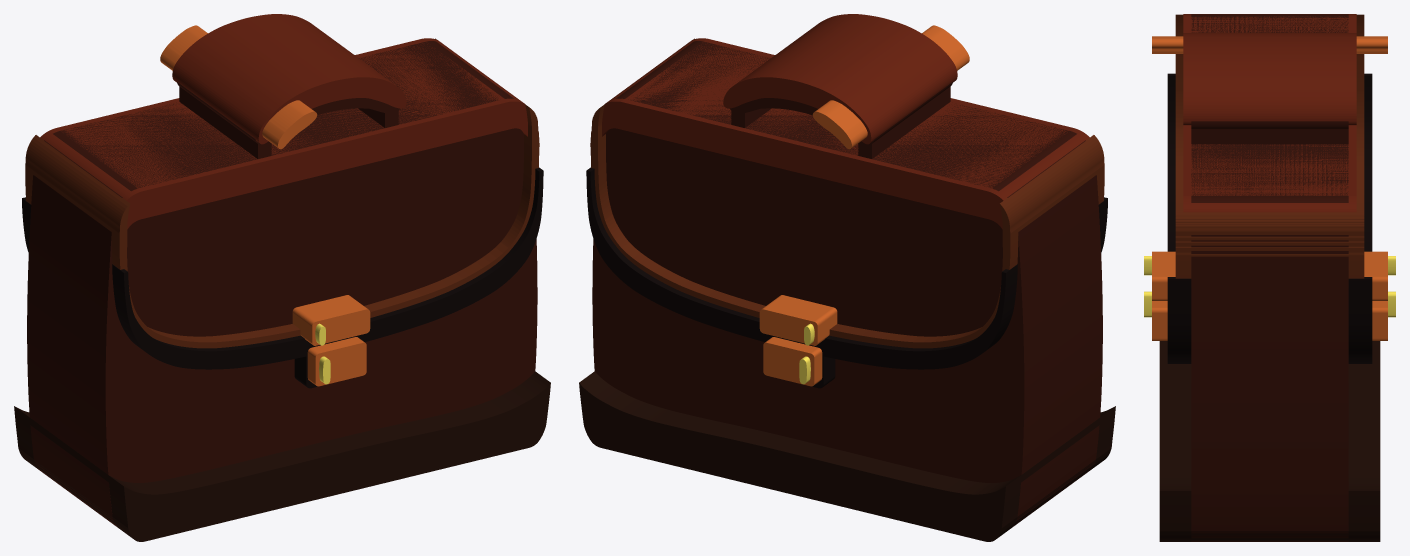
3 renders of one model, left to right at view 1: azimuth 30°, elevation 25°; view 2: azimuth 150°, elevation 25°; view 3: azimuth 270°, elevation 25°, orthographic.
Parts seen in each view (by area): view 1: U+1F4BC_layer00_obj02, U+1F4BC_layer00_obj03, U+1F4BC_layer01_obj01, U+1F4BC_layer04_obj00, U+1F4BC_layer01_obj00, U+1F4BC_layer02_obj02, U+1F4BC_layer03_obj00, U+1F4BC_layer05_obj01, U+1F4BC_layer05_obj00, U+1F4BC_layer05_obj02, U+1F4BC_layer00_obj00, U+1F4BC_layer00_obj04; view 2: U+1F4BC_layer00_obj02, U+1F4BC_layer00_obj03, U+1F4BC_layer01_obj01, U+1F4BC_layer04_obj00, U+1F4BC_layer01_obj00, U+1F4BC_layer02_obj02, U+1F4BC_layer03_obj00, U+1F4BC_layer05_obj01, U+1F4BC_layer05_obj00, U+1F4BC_layer05_obj02, U+1F4BC_layer00_obj00, U+1F4BC_layer00_obj04; view 3: U+1F4BC_layer00_obj02, U+1F4BC_layer01_obj00, U+1F4BC_layer04_obj00, U+1F4BC_layer01_obj01, U+1F4BC_layer02_obj00, U+1F4BC_layer03_obj00, U+1F4BC_layer02_obj02, U+1F4BC_layer00_obj01, U+1F4BC_layer05_obj01, U+1F4BC_layer00_obj04, U+1F4BC_layer05_obj02, U+1F4BC_layer05_obj00 (+3 smaller).
Boxes of the visible parts, x1,y1,x2,y2 form: U+1F4BC_layer00_obj02: (27,41,537,527); U+1F4BC_layer00_obj03: (127,128,523,336); U+1F4BC_layer01_obj01: (40,38,527,229); U+1F4BC_layer04_obj00: (14,371,550,541); U+1F4BC_layer01_obj00: (172,14,406,144); U+1F4BC_layer02_obj02: (25,105,539,348); U+1F4BC_layer03_obj00: (22,167,543,369); U+1F4BC_layer05_obj01: (292,295,370,345); U+1F4BC_layer05_obj00: (160,25,317,149); U+1F4BC_layer05_obj02: (307,337,366,386); U+1F4BC_layer00_obj00: (179,86,271,158); U+1F4BC_layer00_obj04: (177,82,399,144); U+1F4BC_layer00_obj02: (592,41,1102,527); U+1F4BC_layer00_obj03: (606,128,1002,336); U+1F4BC_layer01_obj01: (602,38,1089,229); U+1F4BC_layer04_obj00: (579,371,1115,541); U+1F4BC_layer01_obj00: (723,14,957,144); U+1F4BC_layer02_obj02: (590,105,1104,348); U+1F4BC_layer03_obj00: (586,167,1107,369); U+1F4BC_layer05_obj01: (759,295,837,345); U+1F4BC_layer05_obj00: (812,25,969,149); U+1F4BC_layer05_obj02: (763,337,822,386); U+1F4BC_layer00_obj00: (858,86,950,158); U+1F4BC_layer00_obj04: (730,82,952,144); U+1F4BC_layer00_obj02: (1191,14,1348,541); U+1F4BC_layer01_obj00: (1183,33,1356,125); U+1F4BC_layer04_obj00: (1159,341,1380,541); U+1F4BC_layer01_obj01: (1183,14,1356,212); U+1F4BC_layer02_obj00: (1175,211,1364,257); U+1F4BC_layer03_obj00: (1167,73,1372,363); U+1F4BC_layer02_obj02: (1175,56,1364,278); U+1F4BC_layer00_obj01: (1191,129,1348,144); U+1F4BC_layer05_obj01: (1152,251,1387,300); U+1F4BC_layer00_obj04: (1191,121,1348,129); U+1F4BC_layer05_obj02: (1152,301,1387,340); U+1F4BC_layer05_obj00: (1152,36,1387,53).
Bounding box in the file's own units: 0.3175 × 0.283 × 0.16.
